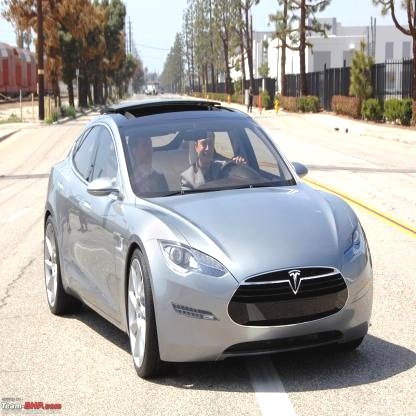Vehicle: (43, 92, 374, 382)
